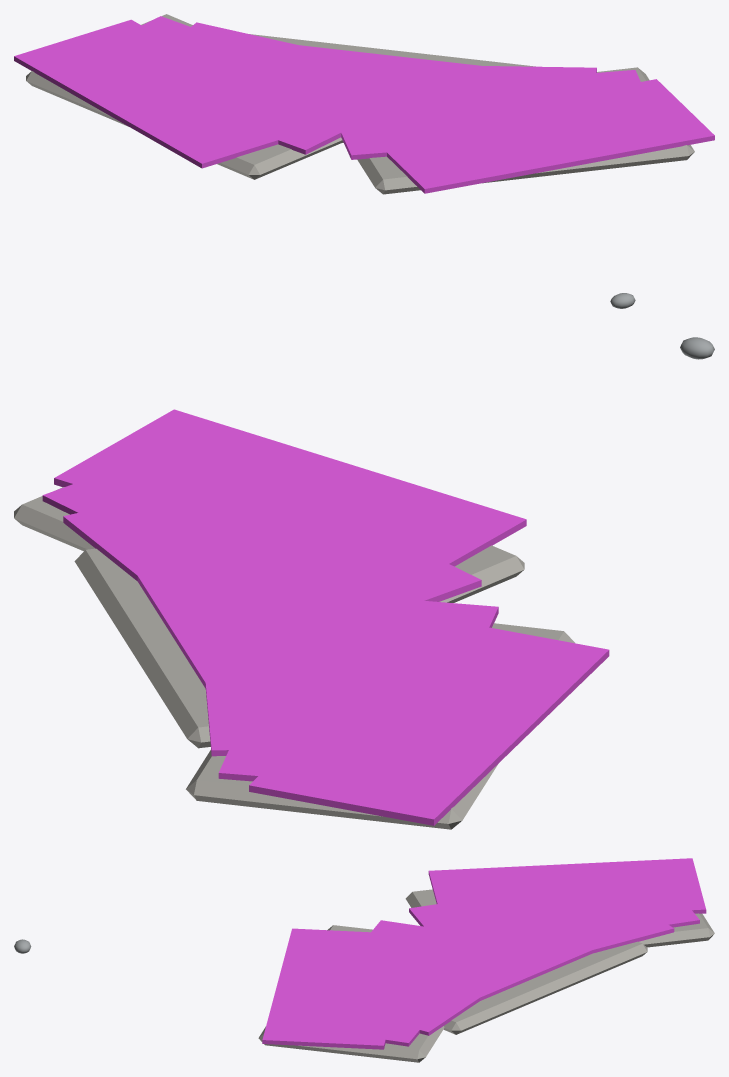
The model's file is forest_path_gravel_curve_lod2_v1.glb.
3 views of the same model, one above another, from view 1: azimuth 30°, elevation 25°; view 2: azimuth 150°, elevation 25°; view 3: azimuth 270°, elevation 25° (orthographic). The views are drawn at different scales.
Visible parts, largest first — view 1: NAV_MASK_FOREST_PATH_GRAVEL_CURVE_ARC_01, NAV_MASK_FOREST_PATH_GRAVEL_CURVE_ARC_07, NAV_MASK_FOREST_PATH_GRAVEL_CURVE_ARC_02, NAV_MASK_FOREST_PATH_GRAVEL_CURVE_ARC_04, NAV_MASK_FOREST_PATH_GRAVEL_CURVE_ARC_03, NAV_MASK_FOREST_PATH_GRAVEL_CURVE_ARC_06, NAV_MASK_FOREST_PATH_GRAVEL_CURVE_ARC_05, LOD2_FOREST_PATH_GRAVEL_CURVE_Arc_01, LOD2_FOREST_PATH_GRAVEL_CURVE_Arc_03, LOD2_FOREST_PATH_GRAVEL_CURVE_Arc_02; view 2: NAV_MASK_FOREST_PATH_GRAVEL_CURVE_ARC_04, NAV_MASK_FOREST_PATH_GRAVEL_CURVE_ARC_01, NAV_MASK_FOREST_PATH_GRAVEL_CURVE_ARC_07, NAV_MASK_FOREST_PATH_GRAVEL_CURVE_ARC_02, NAV_MASK_FOREST_PATH_GRAVEL_CURVE_ARC_06, NAV_MASK_FOREST_PATH_GRAVEL_CURVE_ARC_03, LOD2_FOREST_PATH_GRAVEL_CURVE_Arc_02, NAV_MASK_FOREST_PATH_GRAVEL_CURVE_ARC_05, LOD2_FOREST_PATH_GRAVEL_CURVE_Arc_03, LOD2_FOREST_PATH_GRAVEL_CURVE_Arc_01; view 3: NAV_MASK_FOREST_PATH_GRAVEL_CURVE_ARC_02, NAV_MASK_FOREST_PATH_GRAVEL_CURVE_ARC_07, NAV_MASK_FOREST_PATH_GRAVEL_CURVE_ARC_01, NAV_MASK_FOREST_PATH_GRAVEL_CURVE_ARC_06, NAV_MASK_FOREST_PATH_GRAVEL_CURVE_ARC_04, NAV_MASK_FOREST_PATH_GRAVEL_CURVE_ARC_03, NAV_MASK_FOREST_PATH_GRAVEL_CURVE_ARC_05, LOD2_FOREST_PATH_GRAVEL_CURVE_Arc_02, LOD2_FOREST_PATH_GRAVEL_CURVE_Arc_01, LOD2_FOREST_PATH_GRAVEL_CURVE_Arc_03.
Boxes of the visible parts, x1=… form: NAV_MASK_FOREST_PATH_GRAVEL_CURVE_ARC_01: x1=367, y1=79, x2=714, y2=193; NAV_MASK_FOREST_PATH_GRAVEL_CURVE_ARC_07: x1=14, y1=19, x2=318, y2=168; NAV_MASK_FOREST_PATH_GRAVEL_CURVE_ARC_02: x1=326, y1=70, x2=661, y2=159; NAV_MASK_FOREST_PATH_GRAVEL_CURVE_ARC_04: x1=202, y1=38, x2=542, y2=132; NAV_MASK_FOREST_PATH_GRAVEL_CURVE_ARC_03: x1=275, y1=62, x2=596, y2=125; NAV_MASK_FOREST_PATH_GRAVEL_CURVE_ARC_06: x1=66, y1=16, x2=358, y2=154; NAV_MASK_FOREST_PATH_GRAVEL_CURVE_ARC_05: x1=132, y1=22, x2=470, y2=123; LOD2_FOREST_PATH_GRAVEL_CURVE_Arc_01: x1=357, y1=67, x2=694, y2=194; LOD2_FOREST_PATH_GRAVEL_CURVE_Arc_03: x1=26, y1=14, x2=342, y2=179; LOD2_FOREST_PATH_GRAVEL_CURVE_Arc_02: x1=249, y1=34, x2=535, y2=142; NAV_MASK_FOREST_PATH_GRAVEL_CURVE_ARC_04: x1=115, y1=518, x2=422, y2=718; NAV_MASK_FOREST_PATH_GRAVEL_CURVE_ARC_01: x1=54, y1=409, x2=526, y2=566; NAV_MASK_FOREST_PATH_GRAVEL_CURVE_ARC_07: x1=249, y1=615, x2=609, y2=825; NAV_MASK_FOREST_PATH_GRAVEL_CURVE_ARC_02: x1=42, y1=440, x2=481, y2=635; NAV_MASK_FOREST_PATH_GRAVEL_CURVE_ARC_06: x1=218, y1=601, x2=498, y2=788; NAV_MASK_FOREST_PATH_GRAVEL_CURVE_ARC_03: x1=63, y1=513, x2=412, y2=679; LOD2_FOREST_PATH_GRAVEL_CURVE_Arc_02: x1=74, y1=548, x2=210, y2=748; NAV_MASK_FOREST_PATH_GRAVEL_CURVE_ARC_05: x1=203, y1=562, x2=413, y2=756; LOD2_FOREST_PATH_GRAVEL_CURVE_Arc_03: x1=186, y1=623, x2=574, y2=829; LOD2_FOREST_PATH_GRAVEL_CURVE_Arc_01: x1=14, y1=487, x2=524, y2=602; NAV_MASK_FOREST_PATH_GRAVEL_CURVE_ARC_02: x1=294, y1=920, x2=495, y2=1046; NAV_MASK_FOREST_PATH_GRAVEL_CURVE_ARC_07: x1=428, y1=858, x2=706, y2=921; NAV_MASK_FOREST_PATH_GRAVEL_CURVE_ARC_01: x1=262, y1=928, x2=412, y2=1049; NAV_MASK_FOREST_PATH_GRAVEL_CURVE_ARC_06: x1=409, y1=871, x2=699, y2=950; NAV_MASK_FOREST_PATH_GRAVEL_CURVE_ARC_04: x1=356, y1=898, x2=629, y2=1000; NAV_MASK_FOREST_PATH_GRAVEL_CURVE_ARC_03: x1=341, y1=910, x2=569, y2=1035; NAV_MASK_FOREST_PATH_GRAVEL_CURVE_ARC_05: x1=385, y1=884, x2=674, y2=981; LOD2_FOREST_PATH_GRAVEL_CURVE_Arc_02: x1=443, y1=941, x2=647, y2=1034; LOD2_FOREST_PATH_GRAVEL_CURVE_Arc_01: x1=258, y1=925, x2=444, y2=1062; LOD2_FOREST_PATH_GRAVEL_CURVE_Arc_03: x1=405, y1=889, x2=714, y2=947.
Size of what is drawn, in the model's own units: 5.26 by 0.24 by 8.08.
